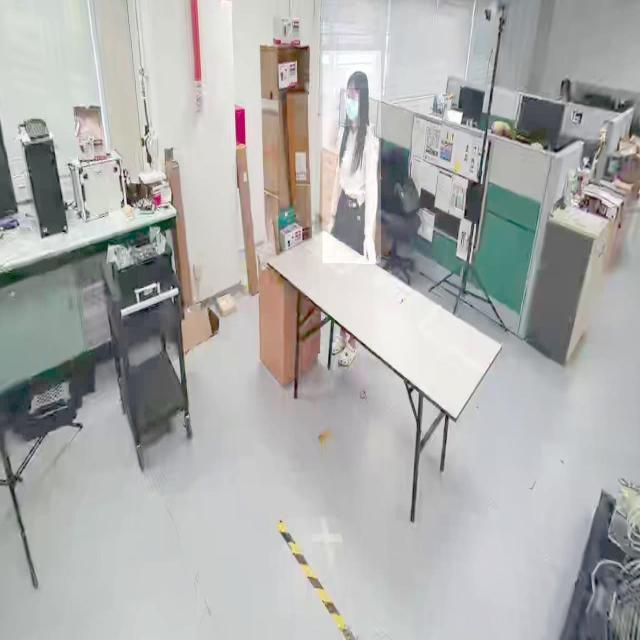face_mask: (344, 90, 360, 126)
hand_glove: (358, 230, 378, 267)
head_nohelmet: (346, 69, 368, 89)
person: (322, 51, 382, 264)
